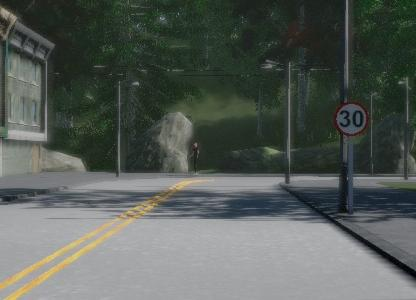Speed_30: (331, 97, 369, 137)
